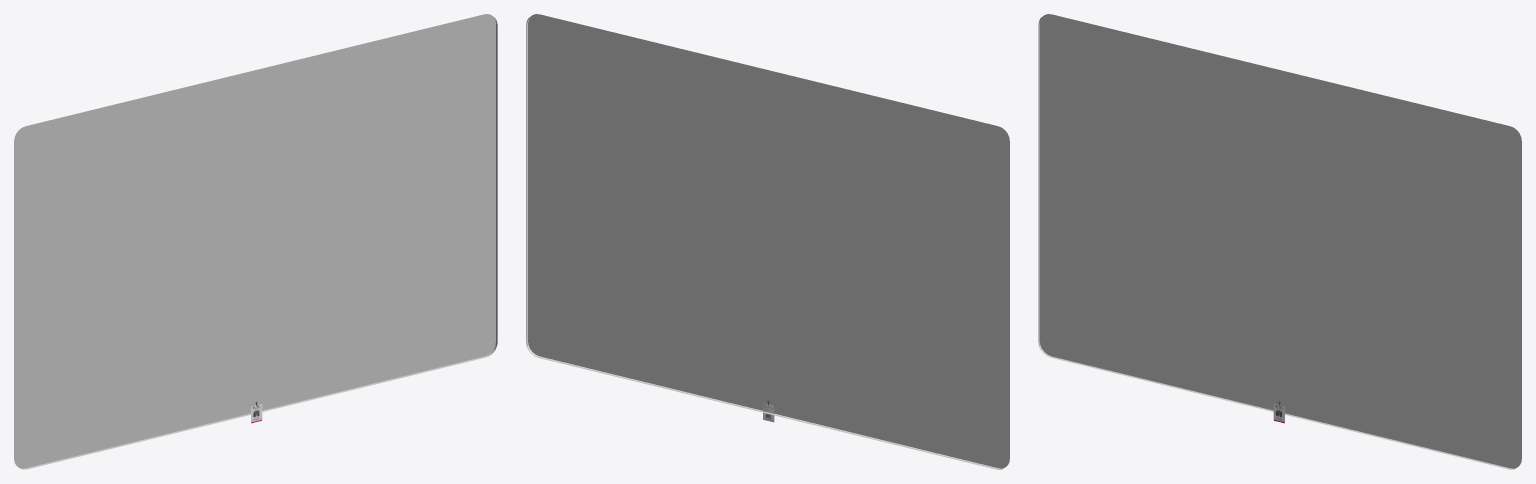
Rendered from vercel.glb.
3 renders of one model, left to right at view 1: azimuth 30°, elevation 25°; view 2: azimuth 150°, elevation 25°; view 3: azimuth 330°, elevation 25°, orthographic.
Visible parts, largest first — view 1: backplate, side; view 2: plate, side; view 3: backplate, side.
Part boxes in pixels (x1=…): backplate: x1=14, y1=14, x2=495, y2=468; side: x1=20, y1=17, x2=497, y2=469; plate: x1=528, y1=14, x2=1009, y2=468; side: x1=526, y1=17, x2=1003, y2=469; backplate: x1=1040, y1=14, x2=1521, y2=468; side: x1=1038, y1=17, x2=1515, y2=469.
Bounding box in the file's own units: 29.93 × 20.81 × 0.4046.
2 materials, 1 textured.
